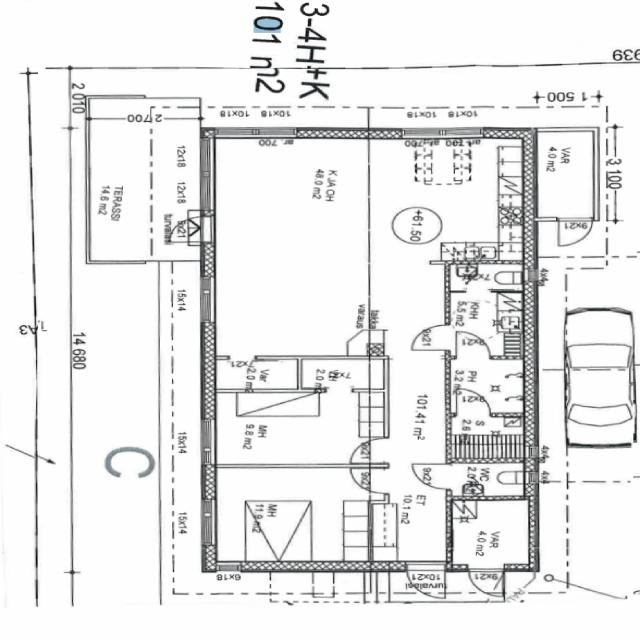door: (407, 562, 445, 601), (168, 217, 217, 242), (469, 564, 504, 598), (412, 465, 453, 490), (351, 438, 390, 464), (413, 325, 453, 350), (458, 388, 491, 418), (351, 469, 390, 494), (456, 332, 489, 360), (560, 218, 592, 245)
